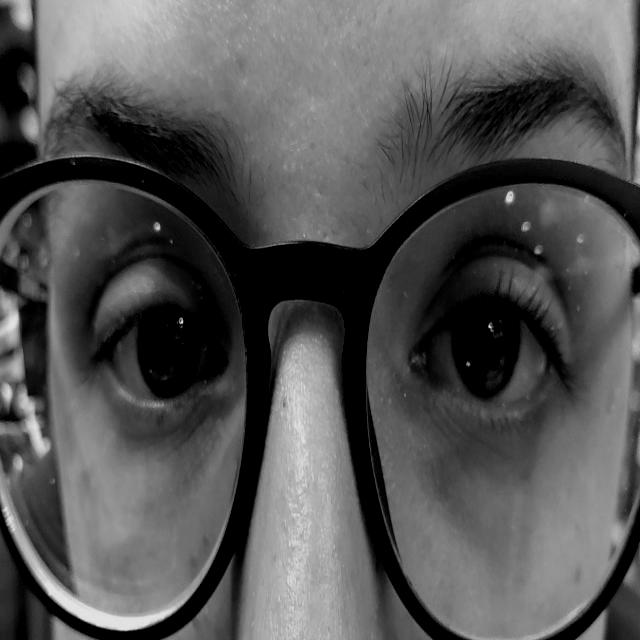real: (44, 162, 624, 512)
